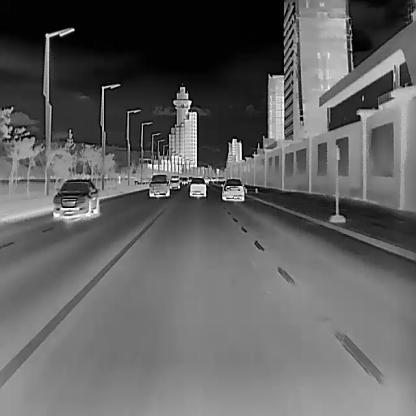car: (51, 178, 100, 219), (220, 177, 243, 200), (148, 173, 169, 197), (189, 174, 206, 197), (168, 176, 179, 188)
